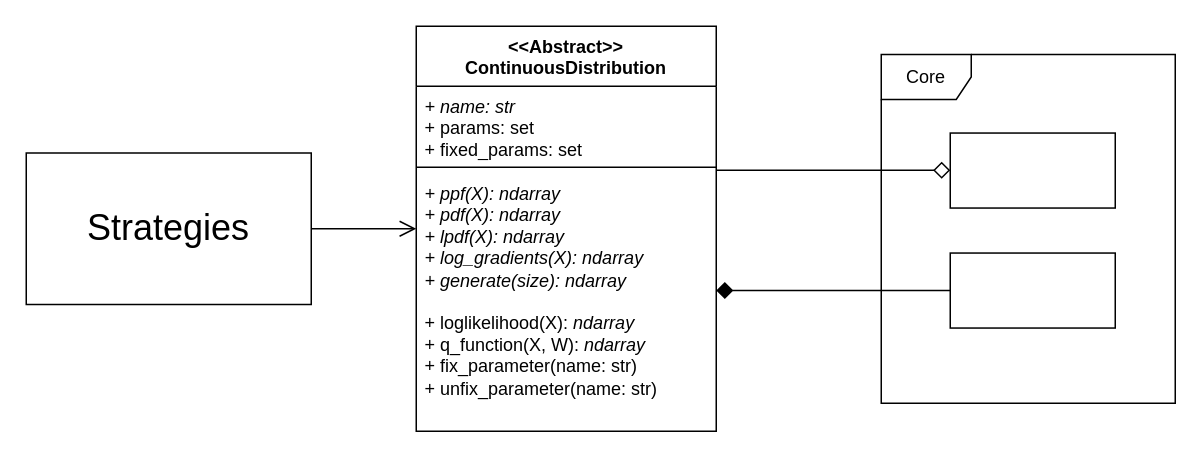
This 1202x462 diagram has some shape labels left out. Each missing label, with the centre of its shape:
MixtureModel: the point at 1032,170
Parameter: the point at 1032,290
